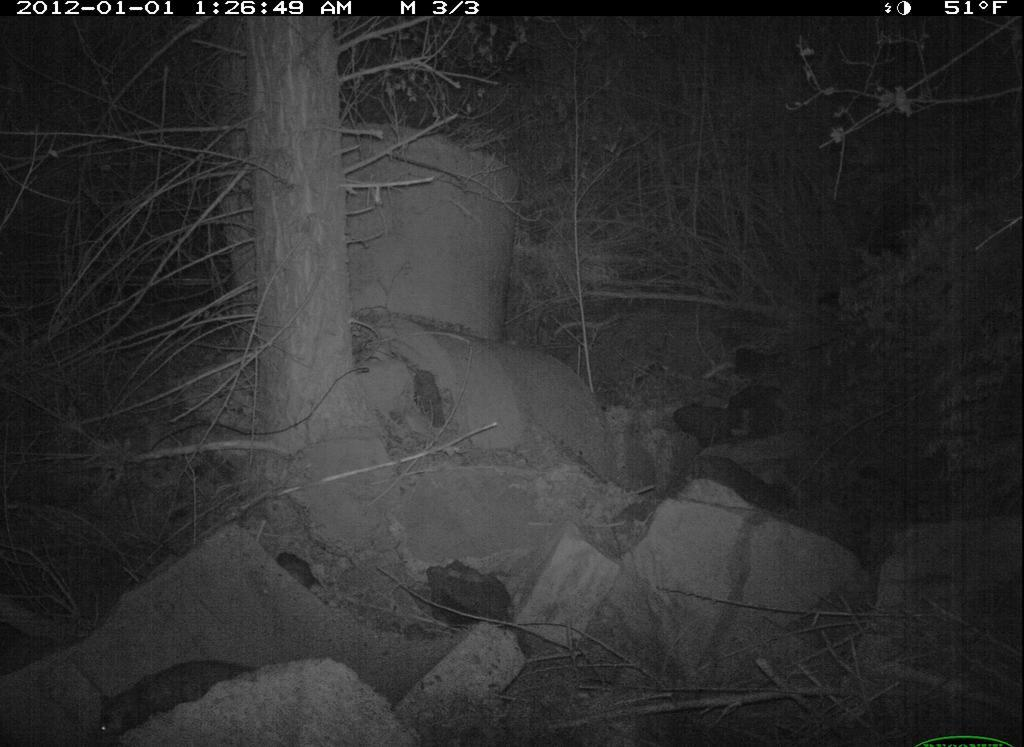opossum: (80, 635, 294, 744)
